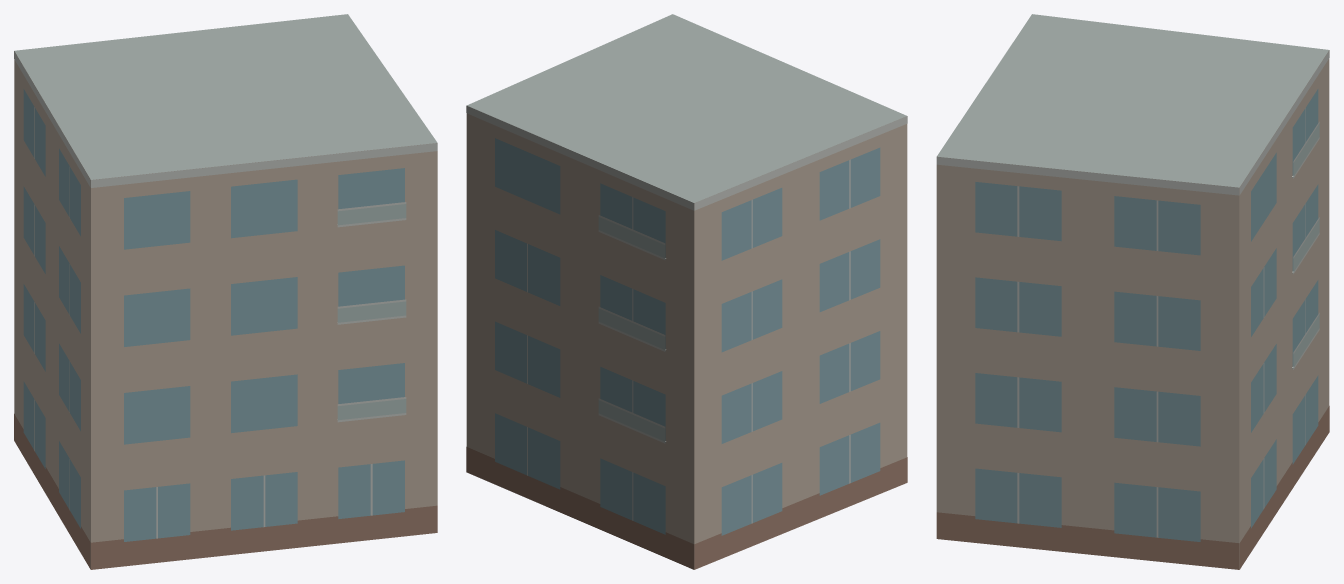
File: survey-upis-32954458.glb
3 renders of one model, left to right at view 1: azimuth 30°, elevation 25°; view 2: azimuth 150°, elevation 25°; view 3: azimuth 270°, elevation 25°, orthographic. The views are drawn at different scales.
Parts seen in each view (by area): view 1: survey-upis-32954458.tmp; view 2: survey-upis-32954458.tmp; view 3: survey-upis-32954458.tmp.
Boxes of the visible parts, left/top/right/bottom form: survey-upis-32954458.tmp: left=14, top=14, right=437, bottom=569; survey-upis-32954458.tmp: left=466, top=14, right=907, bottom=569; survey-upis-32954458.tmp: left=936, top=14, right=1329, bottom=569.
Size of the model in its own units: 11.41 by 11.7 by 10.91.
